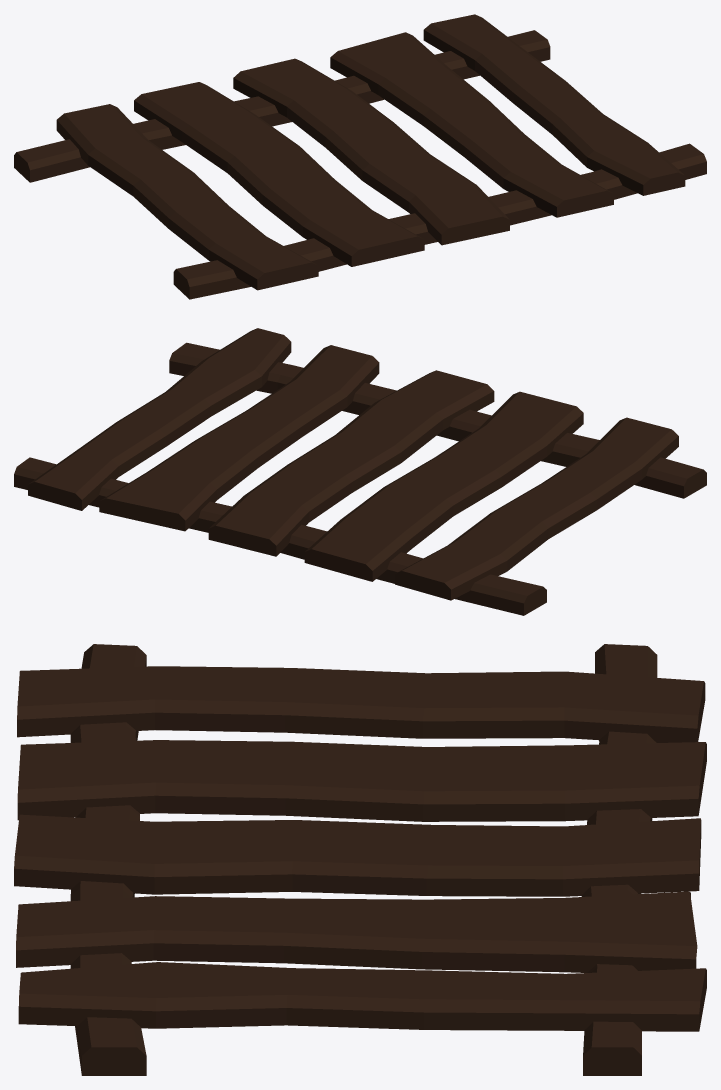
File: Floor_board.FBX
3 views of the same model, one above another, from view 1: azimuth 30°, elevation 25°; view 2: azimuth 150°, elevation 25°; view 3: azimuth 270°, elevation 25° (orthographic). The views are drawn at different scales.
Parts seen in each view (by area): view 1: Plank_002, Plank_003, Plank_004, Plank_001, Plank_005, Baseplanks; view 2: Plank_002, Plank_003, Plank_004, Plank_001, Plank_005, Baseplanks; view 3: Plank_002, Plank_003, Plank_004, Plank_001, Plank_005, Baseplanks.
Boxes of the visible parts, x1,y1,x2,y2 form: Plank_002: [134, 82, 424, 266]; Plank_003: [233, 58, 509, 245]; Plank_004: [330, 32, 613, 217]; Plank_001: [56, 104, 318, 290]; Plank_005: [423, 14, 685, 195]; Baseplanks: [14, 30, 706, 299]; Plank_002: [304, 391, 583, 581]; Plank_003: [208, 370, 494, 556]; Plank_004: [99, 345, 379, 531]; Plank_001: [395, 417, 678, 600]; Plank_005: [28, 328, 291, 510]; Baseplanks: [14, 342, 706, 615]; Plank_002: [17, 740, 706, 821]; Plank_003: [14, 814, 701, 896]; Plank_004: [16, 891, 697, 972]; Plank_001: [17, 666, 705, 742]; Plank_005: [18, 962, 706, 1031]; Baseplanks: [70, 644, 657, 1075].
Size of the model in its own units: 59.46 by 3.05 by 43.14.
